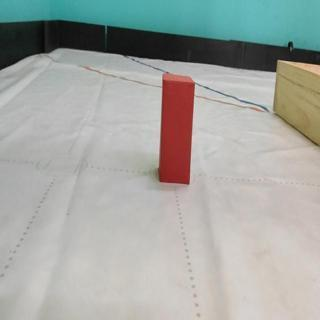redbox: (159, 73, 194, 184)
